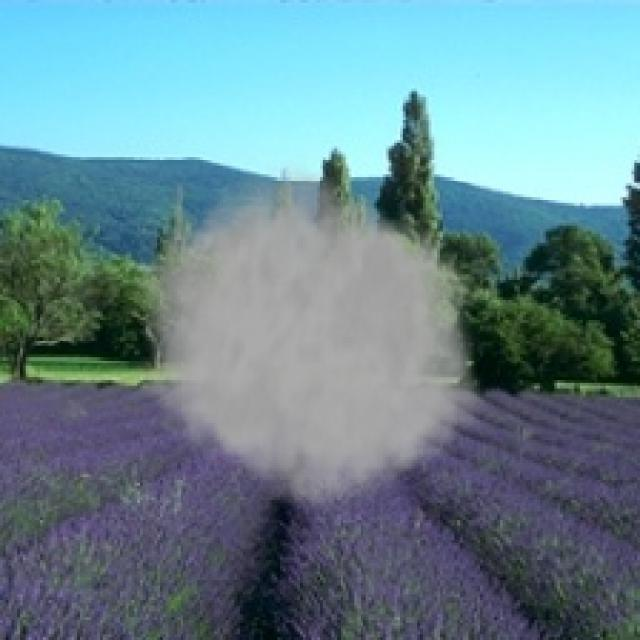Smoke: (134, 155, 497, 520)
